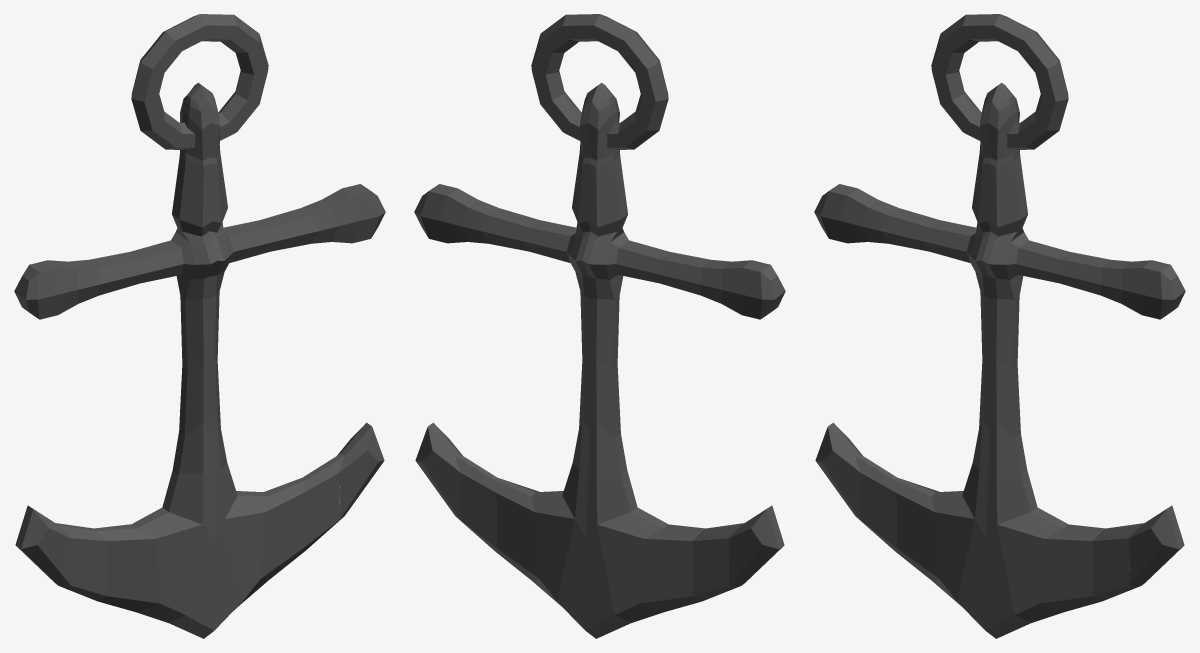
File: Anchor.fbx
3 views of the same model, side by side, from view 1: azimuth 30°, elevation 25°; view 2: azimuth 150°, elevation 25°; view 3: azimuth 330°, elevation 25° (orthographic).
Parts seen in each view (by area): view 1: Anchor; view 2: Anchor; view 3: Anchor.
Part boxes in pixels (x1=…): Anchor: x1=14, y1=14, x2=385, y2=638; Anchor: x1=414, y1=14, x2=785, y2=638; Anchor: x1=814, y1=14, x2=1185, y2=638.
Size of the model in its own units: 349 by 571 by 58.35.
